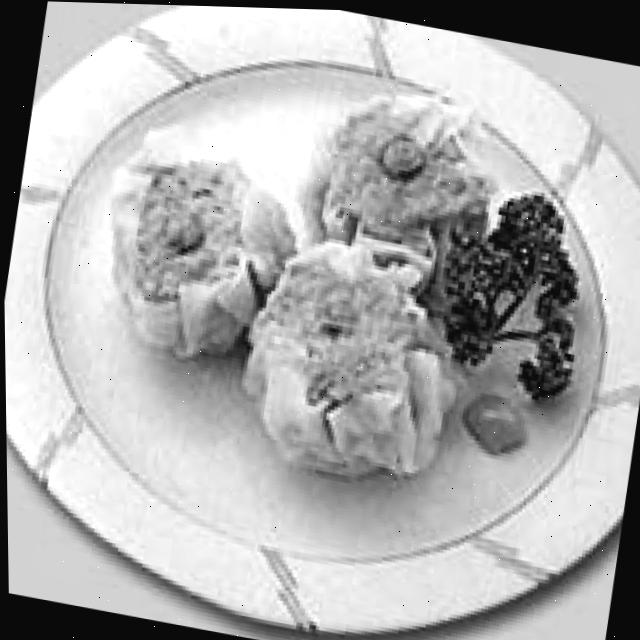带馅早点: (60, 22, 493, 490)
